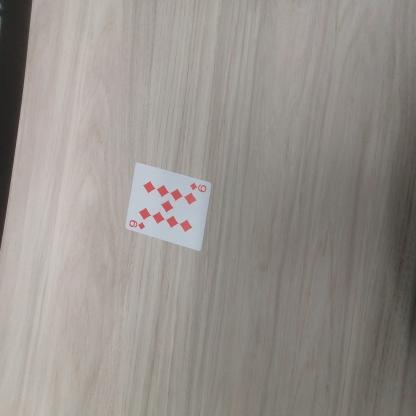9D: (186, 179, 209, 198), (123, 218, 147, 232), (140, 216, 140, 221)
